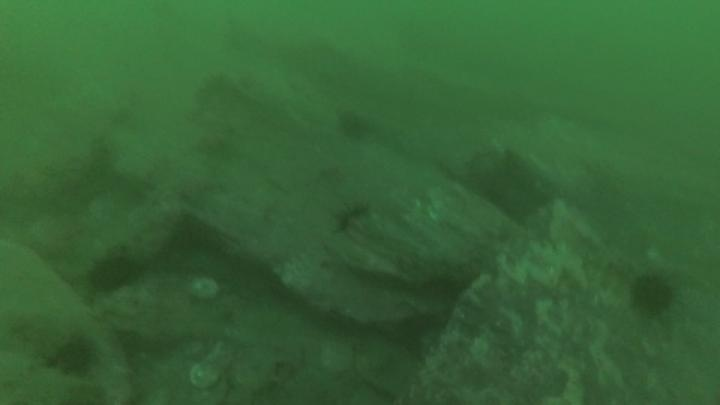echinus: (48, 334, 98, 379), (87, 253, 139, 295), (629, 272, 676, 318), (331, 199, 373, 236)
